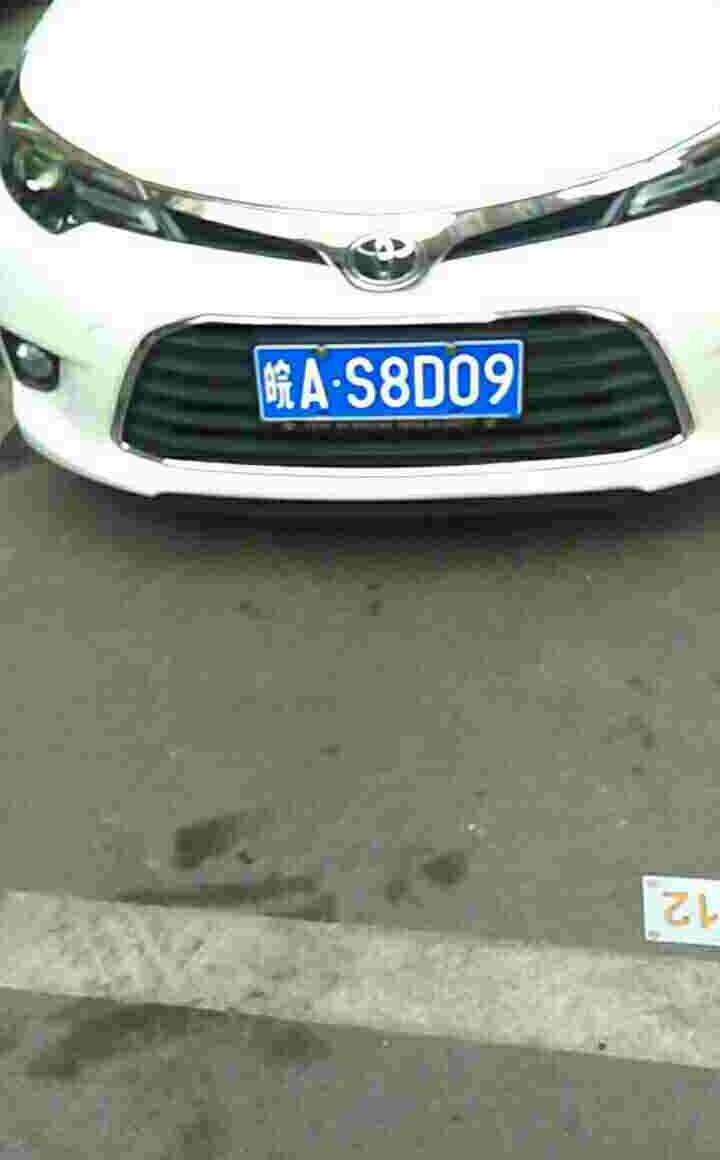license_plate: (262, 340, 531, 423)
